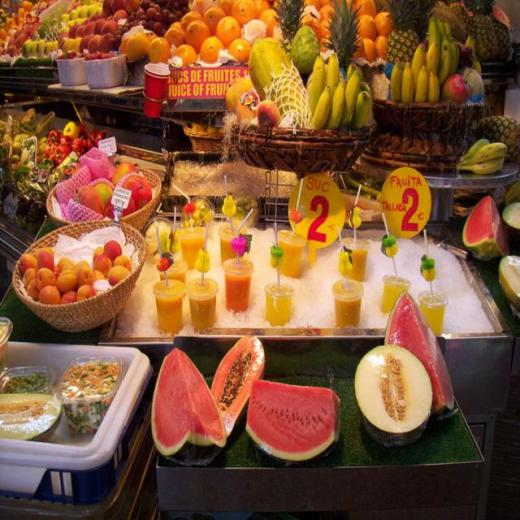Cherry: (384, 290, 457, 414), (244, 374, 338, 466), (151, 350, 226, 465), (463, 194, 510, 258)
